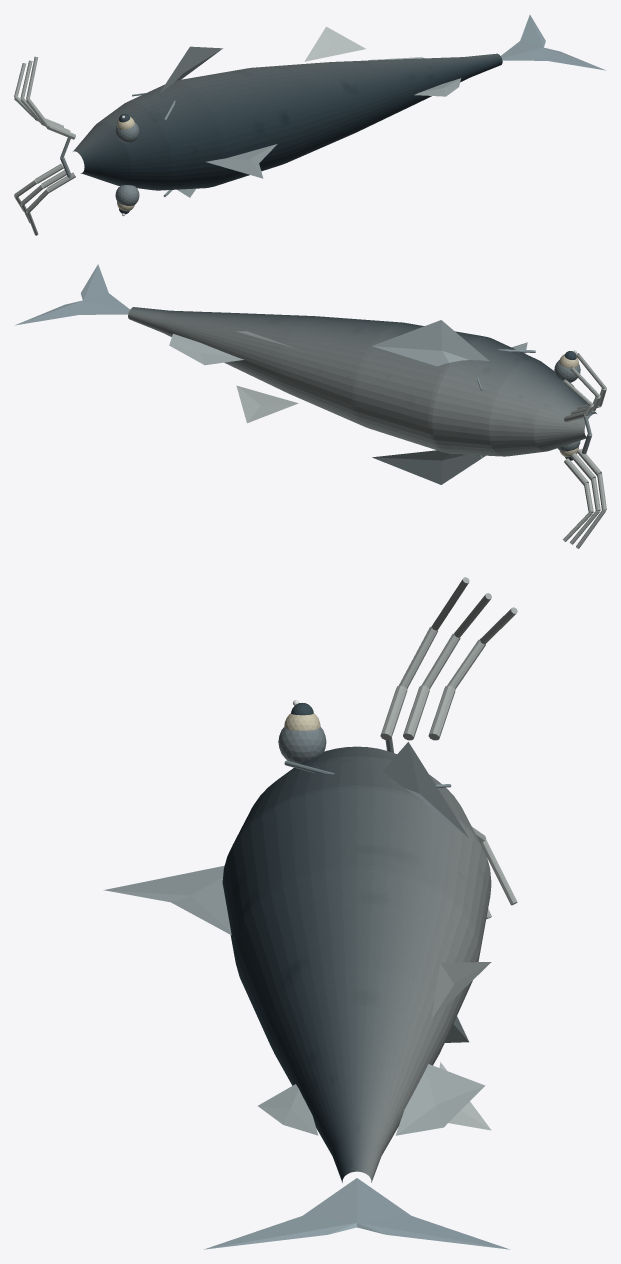
File: Ikan_Duri.glb
3 renders of one model, top to bottom at view 1: azimuth 30°, elevation 25°; view 2: azimuth 150°, elevation 25°; view 3: azimuth 270°, elevation 25°, orthographic. The views are drawn at different scales.
Parts seen in each view (by area): view 1: fish; view 2: fish; view 3: fish.
Part boxes in pixels (x1,y1,x2,y2): fish: (14, 15, 606, 235); fish: (15, 264, 606, 548); fish: (103, 577, 517, 1249).
Bounding box in the file's own units: 3.76 × 1.23 × 1.29.
1 material, 1 textured.
